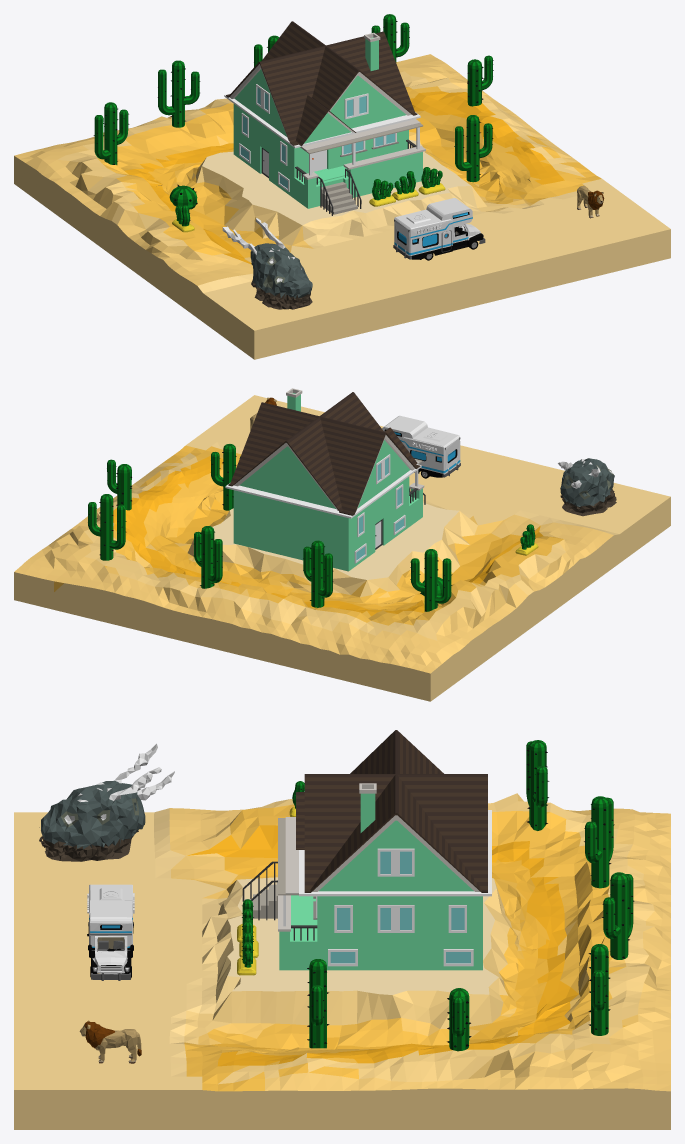
3 renders of one model, top to bottom at view 1: azimuth 30°, elevation 25°; view 2: azimuth 150°, elevation 25°; view 3: azimuth 270°, elevation 25°, orthographic. The views are drawn at different scales.
Parts seen in each view (by area): view 1: Cube.001, Cube.352, VEHICLES_CAMPER, OBJRANDOM_METEORITE, Cylinder.037, Cylinder.044, Cylinder.045, Cylinder.038, Cylinder.042, ANIMAL_LEON, Cylinder.039, Cylinder.041 (+2 smaller); view 2: Cube.001, Cube.352, VEHICLES_CAMPER, OBJRANDOM_METEORITE, Cylinder.042, Cylinder.045, Cylinder.044, Cylinder.043, Cylinder.037, Cylinder.038; view 3: Cube.001, Cube.352, OBJRANDOM_METEORITE, VEHICLES_CAMPER, Cylinder.043, Cylinder.044, Cylinder.045, Cylinder.042, Cylinder.037, ANIMAL_LEON, Cylinder.038, Cylinder.041.
Part boxes in pixels (box(x1,y1,x2,y2)): Cube.001: box(14, 54, 670, 359); Cube.352: box(224, 21, 425, 215); VEHICLES_CAMPER: box(393, 198, 485, 260); OBJRANDOM_METEORITE: box(222, 218, 312, 309); Cylinder.037: box(454, 115, 493, 182); Cylinder.044: box(157, 60, 200, 127); Cylinder.045: box(93, 102, 129, 164); Cylinder.038: box(467, 55, 493, 106); Cylinder.042: box(371, 14, 409, 62); ANIMAL_LEON: box(577, 185, 604, 218); Cylinder.039: box(369, 179, 395, 206); Cylinder.041: box(418, 167, 445, 194); Cube.001: box(14, 395, 670, 701); Cube.352: box(225, 388, 425, 571); VEHICLES_CAMPER: box(382, 415, 460, 478); OBJRANDOM_METEORITE: box(558, 458, 616, 516); Cylinder.042: box(88, 494, 126, 560); Cylinder.045: box(410, 549, 452, 611); Cylinder.044: box(303, 540, 333, 607); Cylinder.043: box(193, 526, 222, 588); Cylinder.037: box(211, 444, 240, 510); Cylinder.038: box(107, 459, 131, 510); Cube.001: box(14, 793, 670, 1129); Cube.352: box(242, 730, 491, 970); OBJRANDOM_METEORITE: box(39, 743, 174, 861); VEHICLES_CAMPER: box(87, 884, 134, 980); Cylinder.043: box(602, 872, 634, 959); Cylinder.044: box(584, 796, 614, 888); Cylinder.045: box(526, 740, 549, 830); Cylinder.042: box(588, 944, 610, 1035); Cylinder.037: box(307, 959, 329, 1048); ANIMAL_LEON: box(79, 1020, 141, 1063); Cylinder.038: box(447, 988, 471, 1051); Cylinder.041: box(237, 932, 256, 975).
Bounding box in the file's own units: 4002 × 1779 × 4001.
35 materials, 2 textured.
